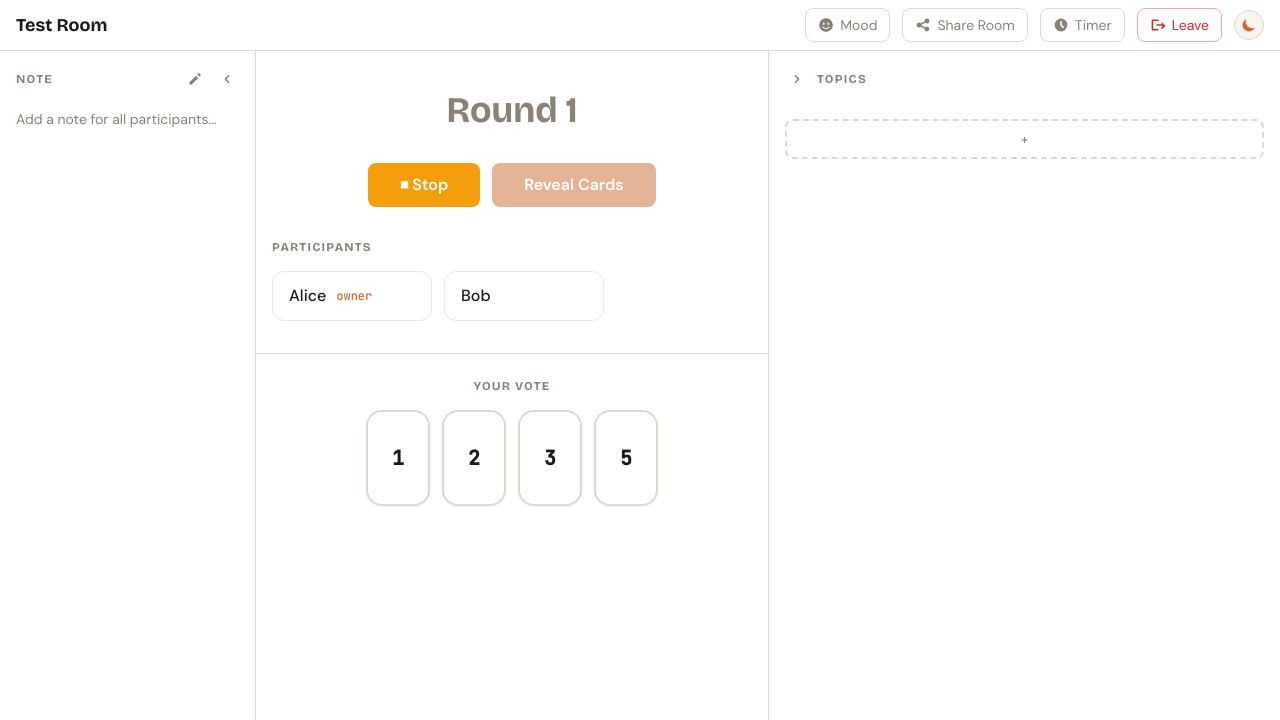
Thinking time button › shows volume slider on mouseenter when music is playing
Step 1. Hover over the element with test id "thinking-music-wrapper" → (424, 185), box [368,163,480,207]
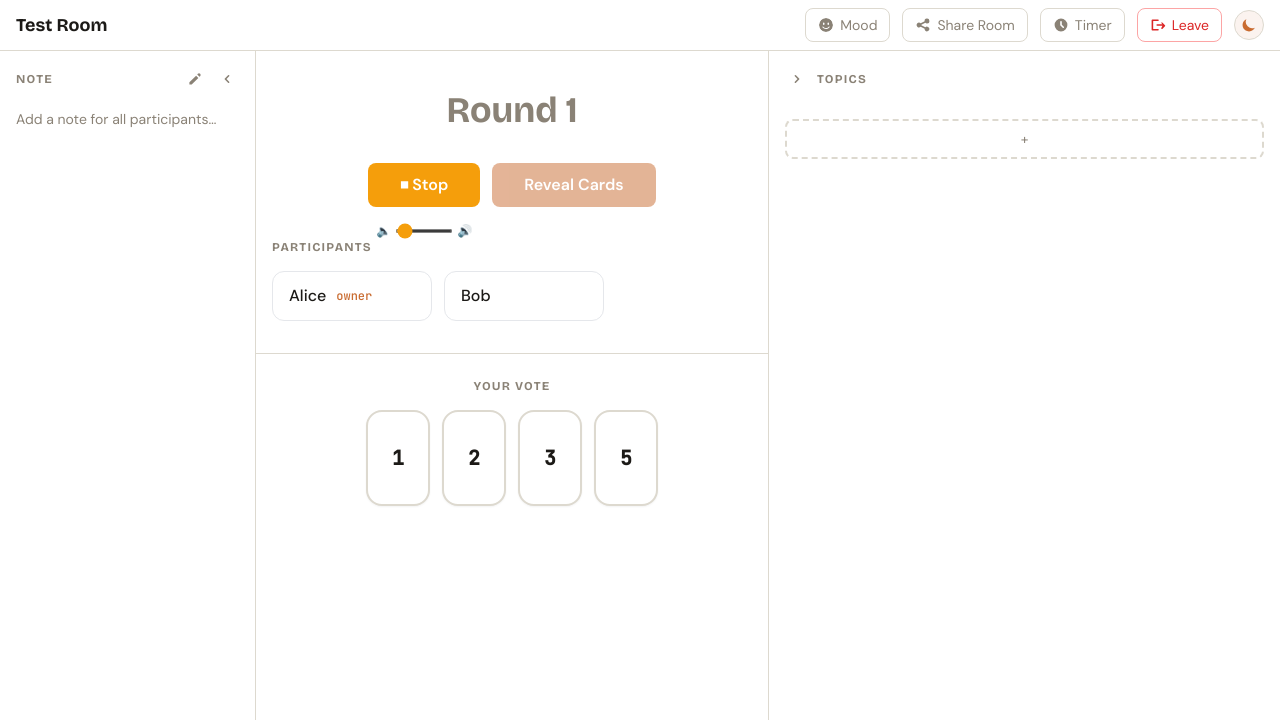
Now the slider is shown, box [395,229,453,233]
